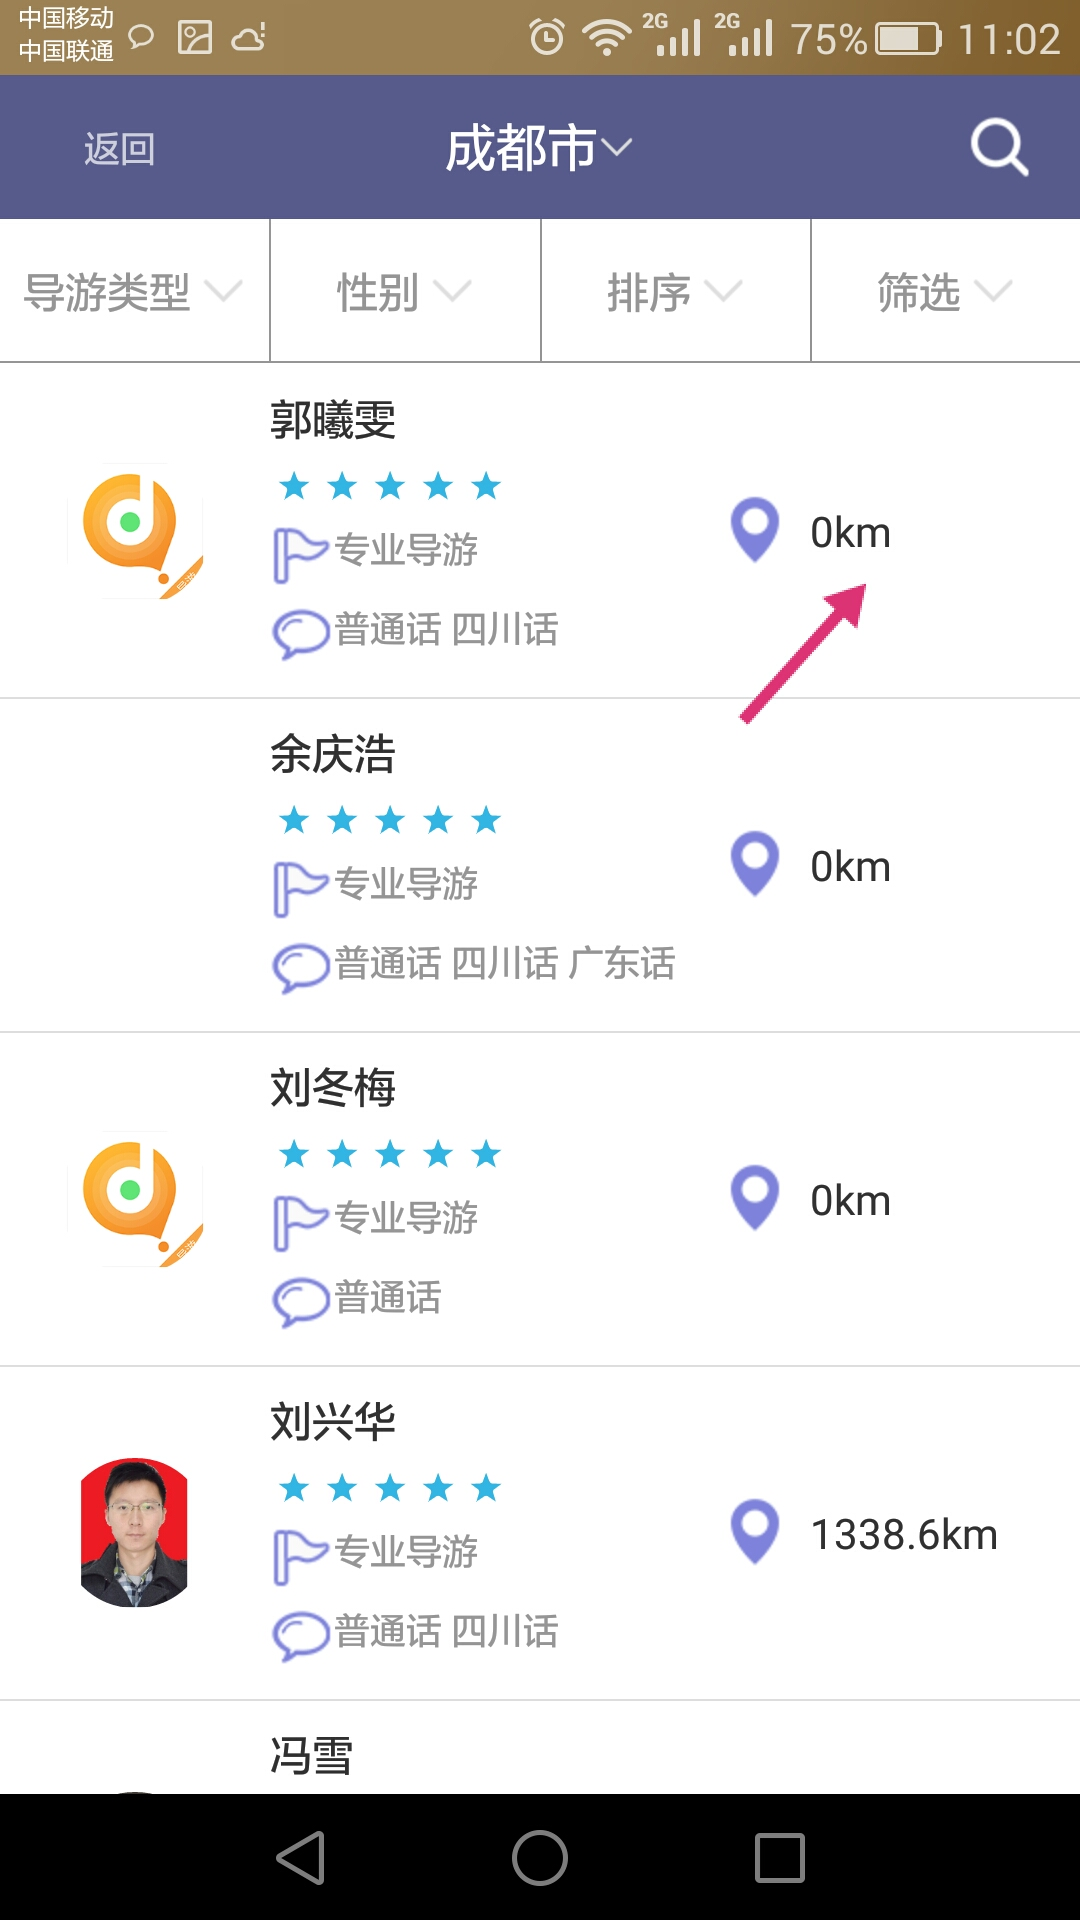imgbutton: (935, 82, 1059, 200)
textview: (4, 1000, 1077, 1710)
